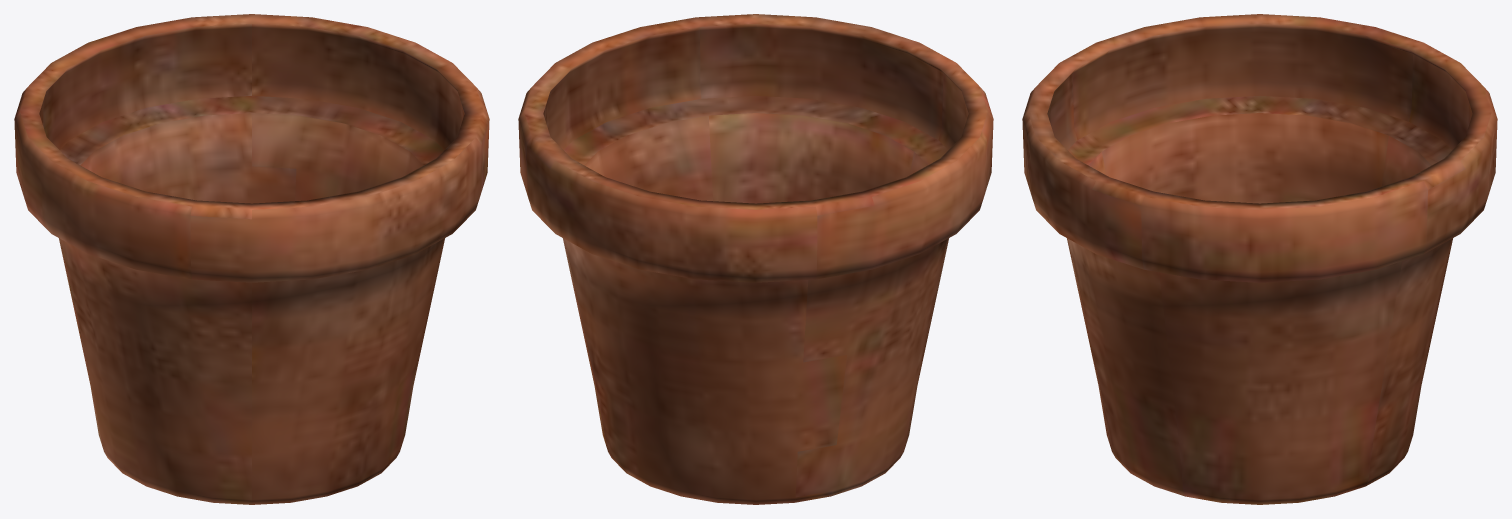
File: pot_classic_lod1_web.glb
3 views of the same model, side by side, from view 1: azimuth 30°, elevation 25°; view 2: azimuth 150°, elevation 25°; view 3: azimuth 270°, elevation 25° (orthographic).
Visible parts, largest first — view 1: PotClassic_Mesh; view 2: PotClassic_Mesh; view 3: PotClassic_Mesh.
Boxes of the visible parts, x1,y1,x2,y2 form: PotClassic_Mesh: [14, 14, 489, 504]; PotClassic_Mesh: [518, 14, 993, 504]; PotClassic_Mesh: [1022, 14, 1497, 504].
Size of the model in its own units: 0.248 by 0.19 by 0.248.
1 material, 1 textured.
